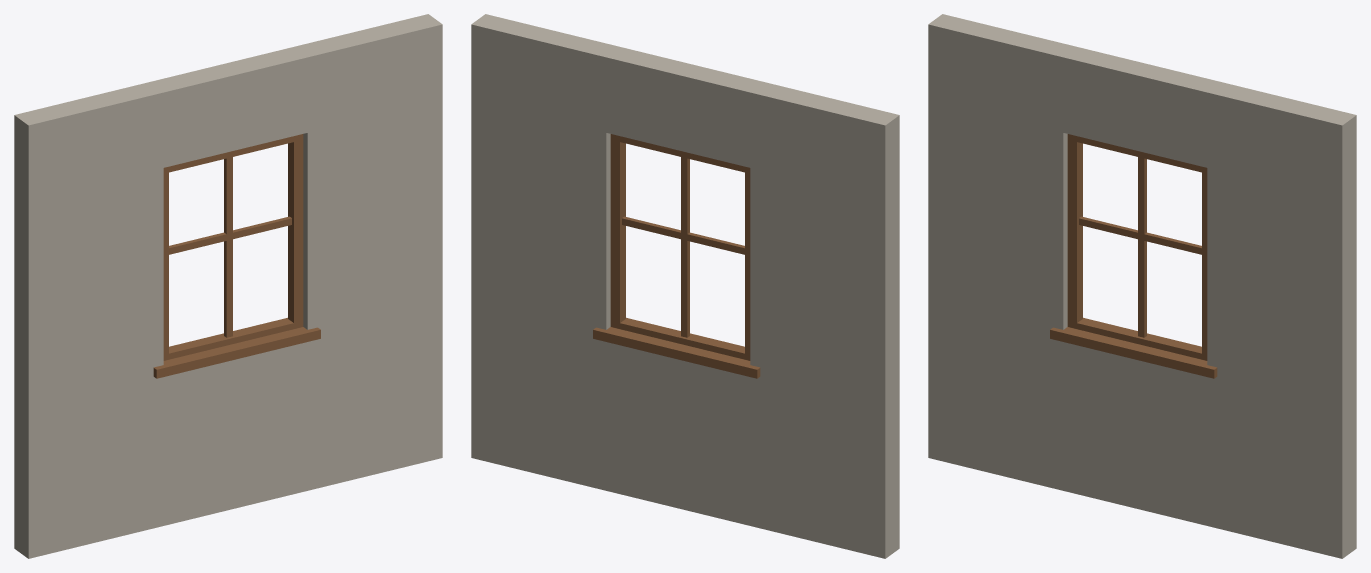
Rendered from Wall_16.fbx.
3 renders of one model, left to right at view 1: azimuth 30°, elevation 25°; view 2: azimuth 150°, elevation 25°; view 3: azimuth 330°, elevation 25°, orthographic.
Parts seen in each view (by area): view 1: Wall_16; view 2: Wall_16; view 3: Wall_16.
Boxes of the visible parts, x1,y1,x2,y2 form: Wall_16: (14,14,442,558); Wall_16: (471,14,899,558); Wall_16: (928,14,1356,558).
Size of the model in its own units: 259 by 259 by 22.34.
